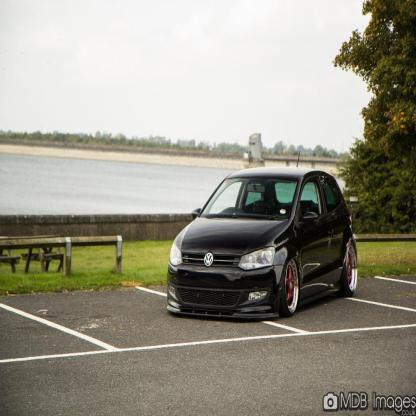car: (167, 162, 359, 325)
